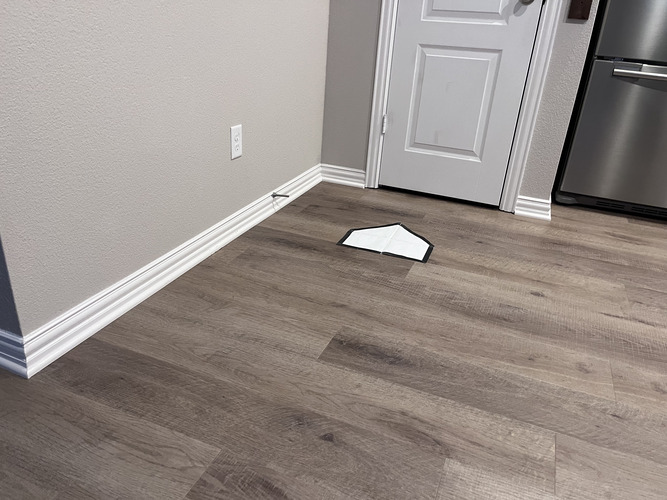homeplate: (335, 222, 435, 263)
